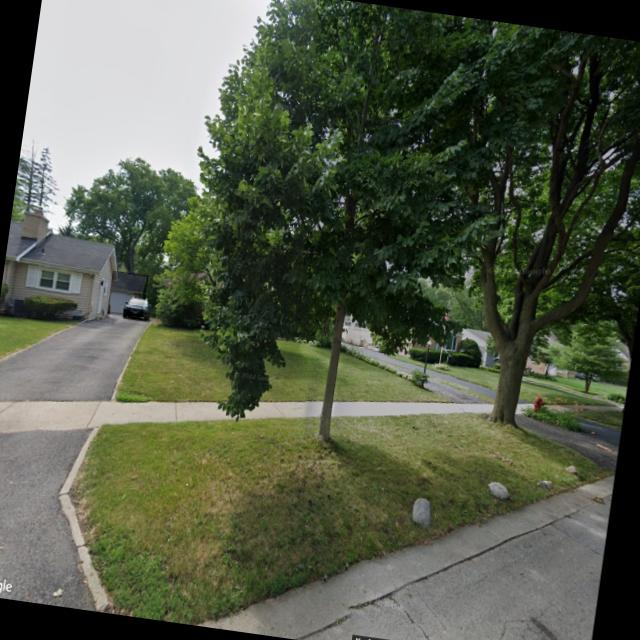House: (0, 199, 127, 329), (340, 314, 463, 362), (106, 271, 148, 320)
